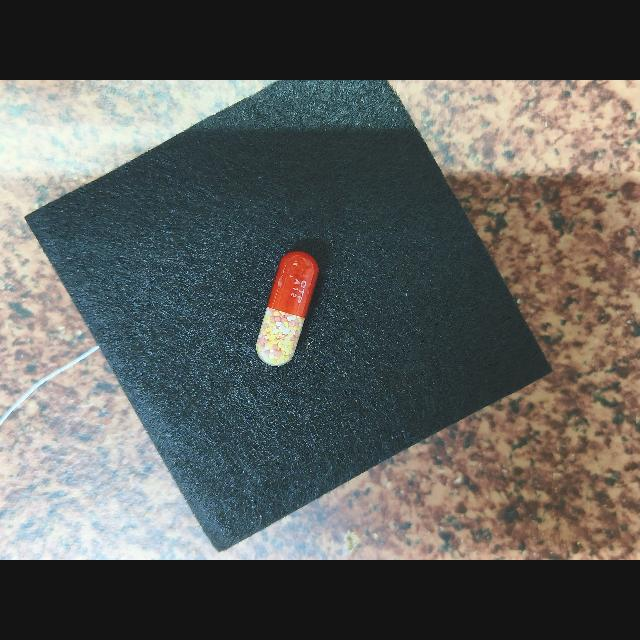Intact Capsule: (256, 251, 319, 366)
